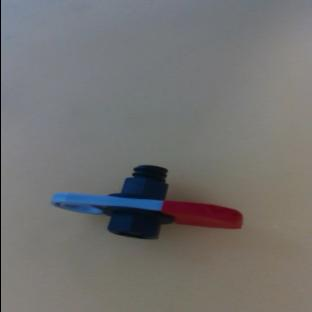part_1_good: (48, 154, 244, 252)
